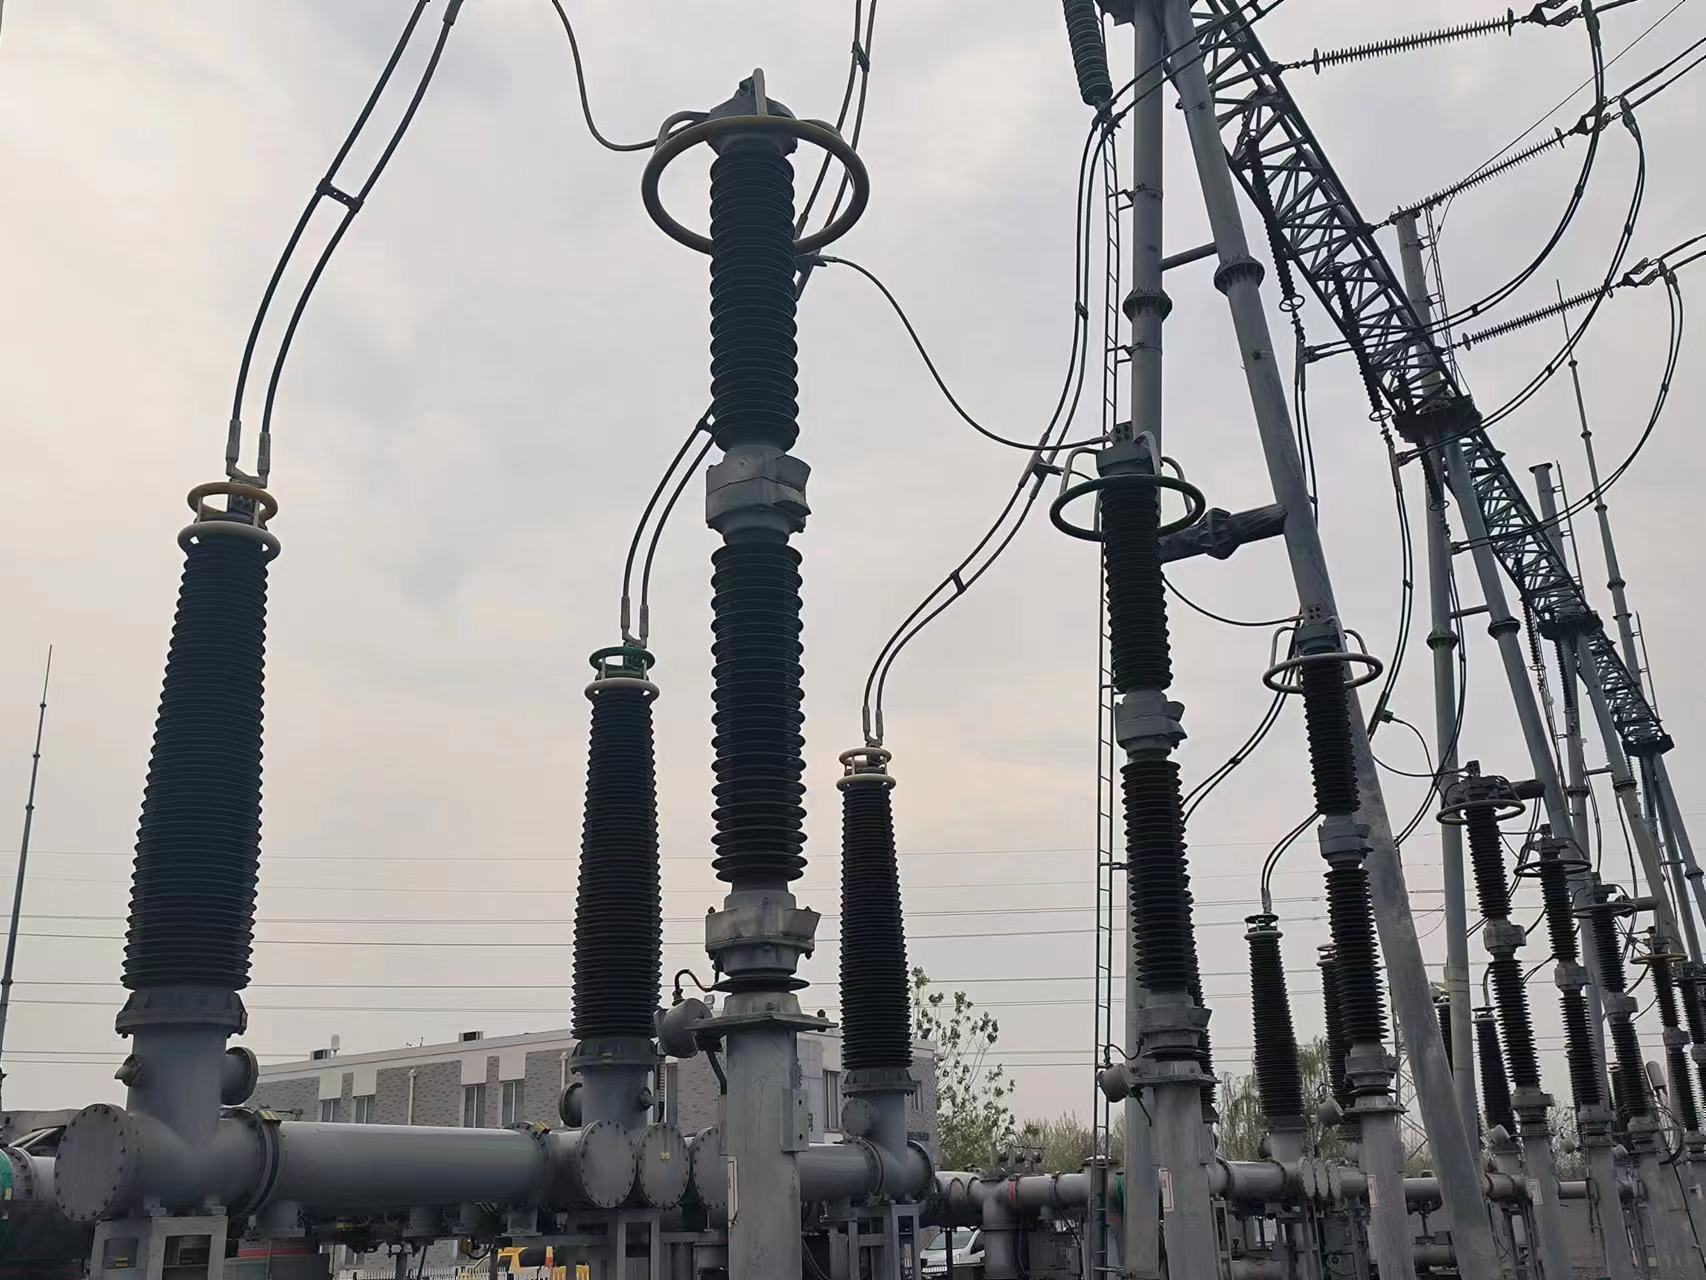Arrester: (640, 62, 871, 891), (1045, 434, 1213, 1026), (1261, 618, 1391, 1054)
Voltage transformer: (112, 479, 281, 991), (565, 641, 659, 1038), (828, 750, 916, 1072)
